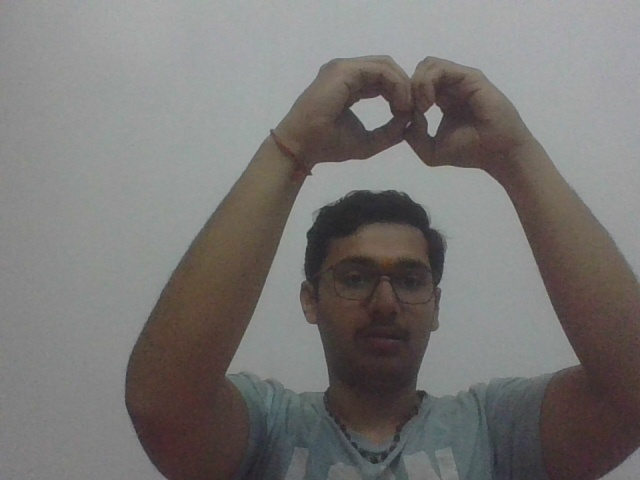B: (303, 50, 532, 173)
